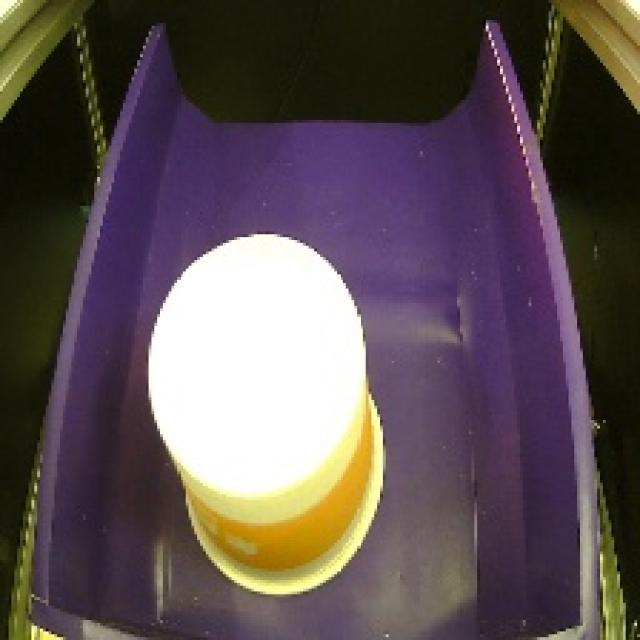cups: (138, 220, 394, 604)
